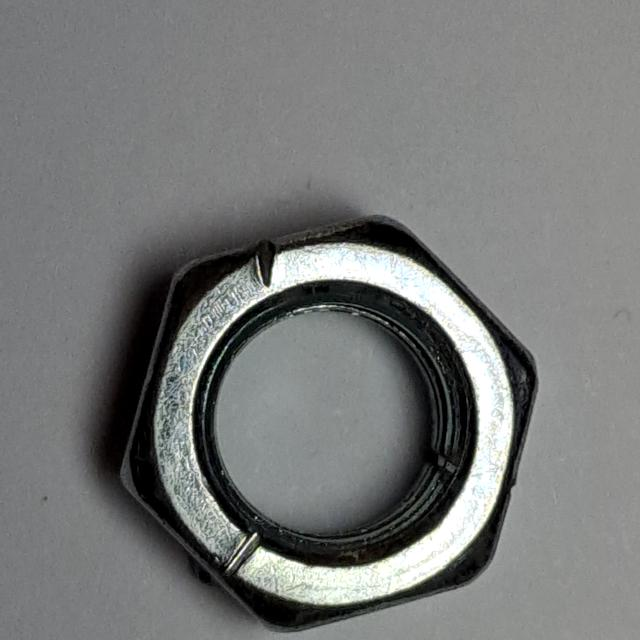Scratches: (94, 196, 550, 640)
